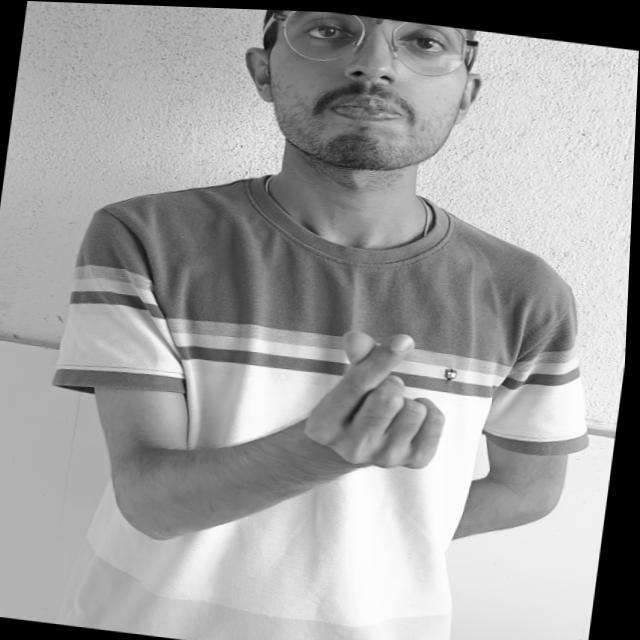Grattitude: (276, 307, 547, 495)
